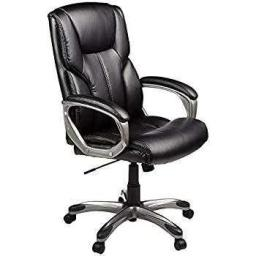Chair: (47, 2, 209, 253)
